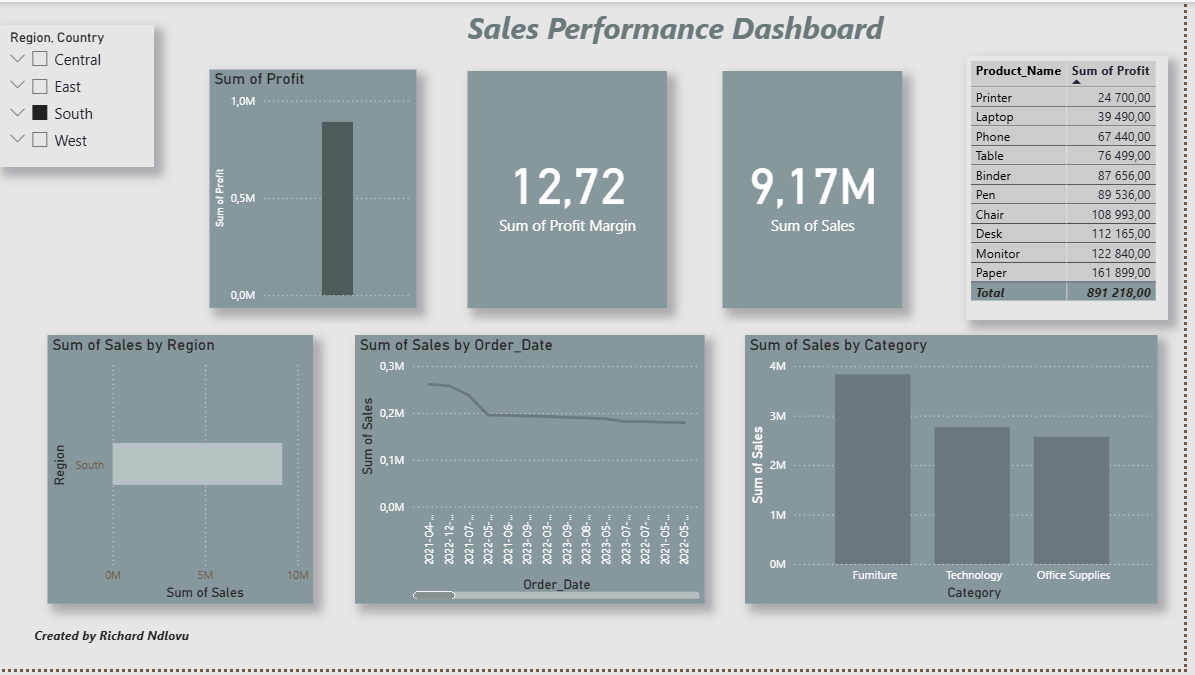

The page's visual inventory and layout, read from the dashboard file:
{"tool":"powerbi","page":{"name":"Page 1","canvas":[1280,720],"ordinal":0},"visuals":[{"type":"clusteredColumnChart","fields":{"Y":["Sum(superstore_sales_clean.Profit)"]},"box":[228.3,72.9,223.5,257.5],"z":0},{"type":"card","fields":{"Values":["Sum(superstore_sales_clean.Profit Margin)"]},"box":[506.8,74.5,215.4,255.8],"z":1000},{"type":"card","fields":{"Values":["Sum(superstore_sales_clean.Sales)"]},"box":[782.1,74.5,194.3,255.8],"z":2000},{"type":"clusteredBarChart","fields":{"Category":["superstore_sales_clean.Region"],"Y":["Sum(superstore_sales_clean.Sales)"]},"box":[53.4,359.5,286.6,289.8],"z":3000},{"type":"lineChart","fields":{"Category":["superstore_sales_clean.Order_Date"],"Y":["Sum(superstore_sales_clean.Sales)"]},"box":[385.4,359.5,377.3,289.8],"z":4000},{"type":"columnChart","fields":{"Y":["Sum(superstore_sales_clean.Sales)"],"Category":["superstore_sales_clean.Category"]},"box":[806.4,359.5,445.3,289.8],"z":5000},{"type":"textbox","box":[451.8,0,558.6,58.3],"z":6000},{"type":"tableEx","fields":{"Values":["superstore_sales_clean.Product_Name","Sum(superstore_sales_clean.Profit)"]},"box":[1044.4,58.3,218.6,285],"z":7000},{"type":"slicer","fields":{"Values":["superstore_sales_clean.Region","superstore_sales_clean.Country"]},"box":[0,24.3,168.4,153.8],"z":8000},{"type":"textbox","box":[34,668.7,194.3,30.8],"z":9000}]}

Visuals, with their boxes in screenshot pixels (x1, y1, x2, y2), scaled from the page's 1280x720 canvas onto the 1195x675 screenshot:
clusteredColumnChart - Sum(superstore_sales_clean.Profit): {"x1": 213, "y1": 68, "x2": 422, "y2": 310}
card - Sum(superstore_sales_clean.Profit Margin): {"x1": 473, "y1": 70, "x2": 674, "y2": 310}
card - Sum(superstore_sales_clean.Sales): {"x1": 730, "y1": 70, "x2": 912, "y2": 310}
clusteredBarChart - superstore_sales_clean.Region x Sum(superstore_sales_clean.Sales): {"x1": 50, "y1": 337, "x2": 317, "y2": 609}
lineChart - superstore_sales_clean.Order_Date x Sum(superstore_sales_clean.Sales): {"x1": 360, "y1": 337, "x2": 712, "y2": 609}
columnChart - Sum(superstore_sales_clean.Sales) x superstore_sales_clean.Category: {"x1": 753, "y1": 337, "x2": 1169, "y2": 609}
textbox: {"x1": 422, "y1": 0, "x2": 943, "y2": 55}
tableEx - superstore_sales_clean.Product_Name x Sum(superstore_sales_clean.Profit): {"x1": 975, "y1": 55, "x2": 1179, "y2": 322}
slicer - superstore_sales_clean.Region x superstore_sales_clean.Country: {"x1": 0, "y1": 23, "x2": 157, "y2": 167}
textbox: {"x1": 32, "y1": 627, "x2": 213, "y2": 656}
